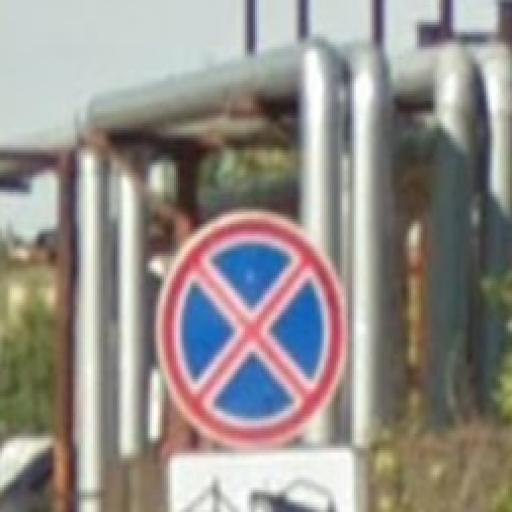traffic_sign: (155, 213, 349, 452)
